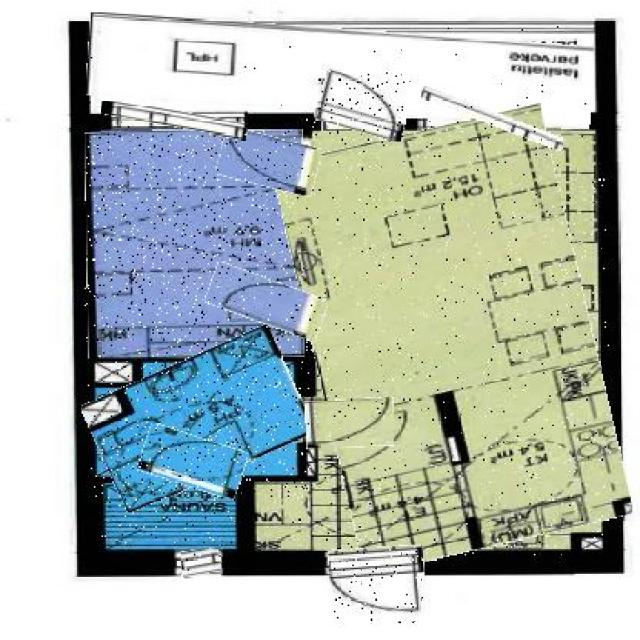door: (329, 546, 426, 623), (206, 271, 326, 332), (140, 429, 246, 494), (317, 72, 412, 137), (218, 132, 320, 191), (306, 398, 394, 448)
window: (419, 100, 566, 138), (100, 108, 248, 135), (182, 551, 222, 578)
zone: (292, 117, 611, 561), (84, 131, 304, 358), (86, 22, 594, 120), (88, 341, 308, 497), (100, 483, 245, 545)
